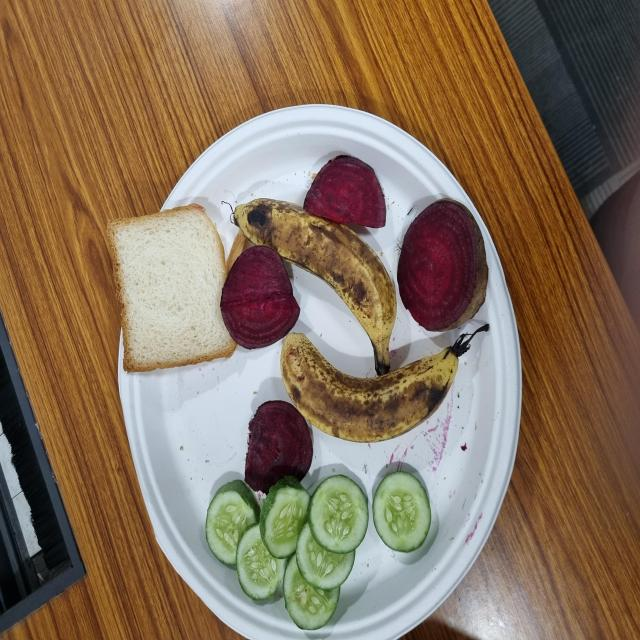banana: (221, 311, 332, 527), (147, 375, 232, 618)
cucumber: (64, 495, 135, 582), (53, 275, 122, 352), (67, 413, 125, 495), (8, 376, 66, 456), (38, 396, 92, 479), (31, 316, 90, 386), (60, 350, 119, 417)
